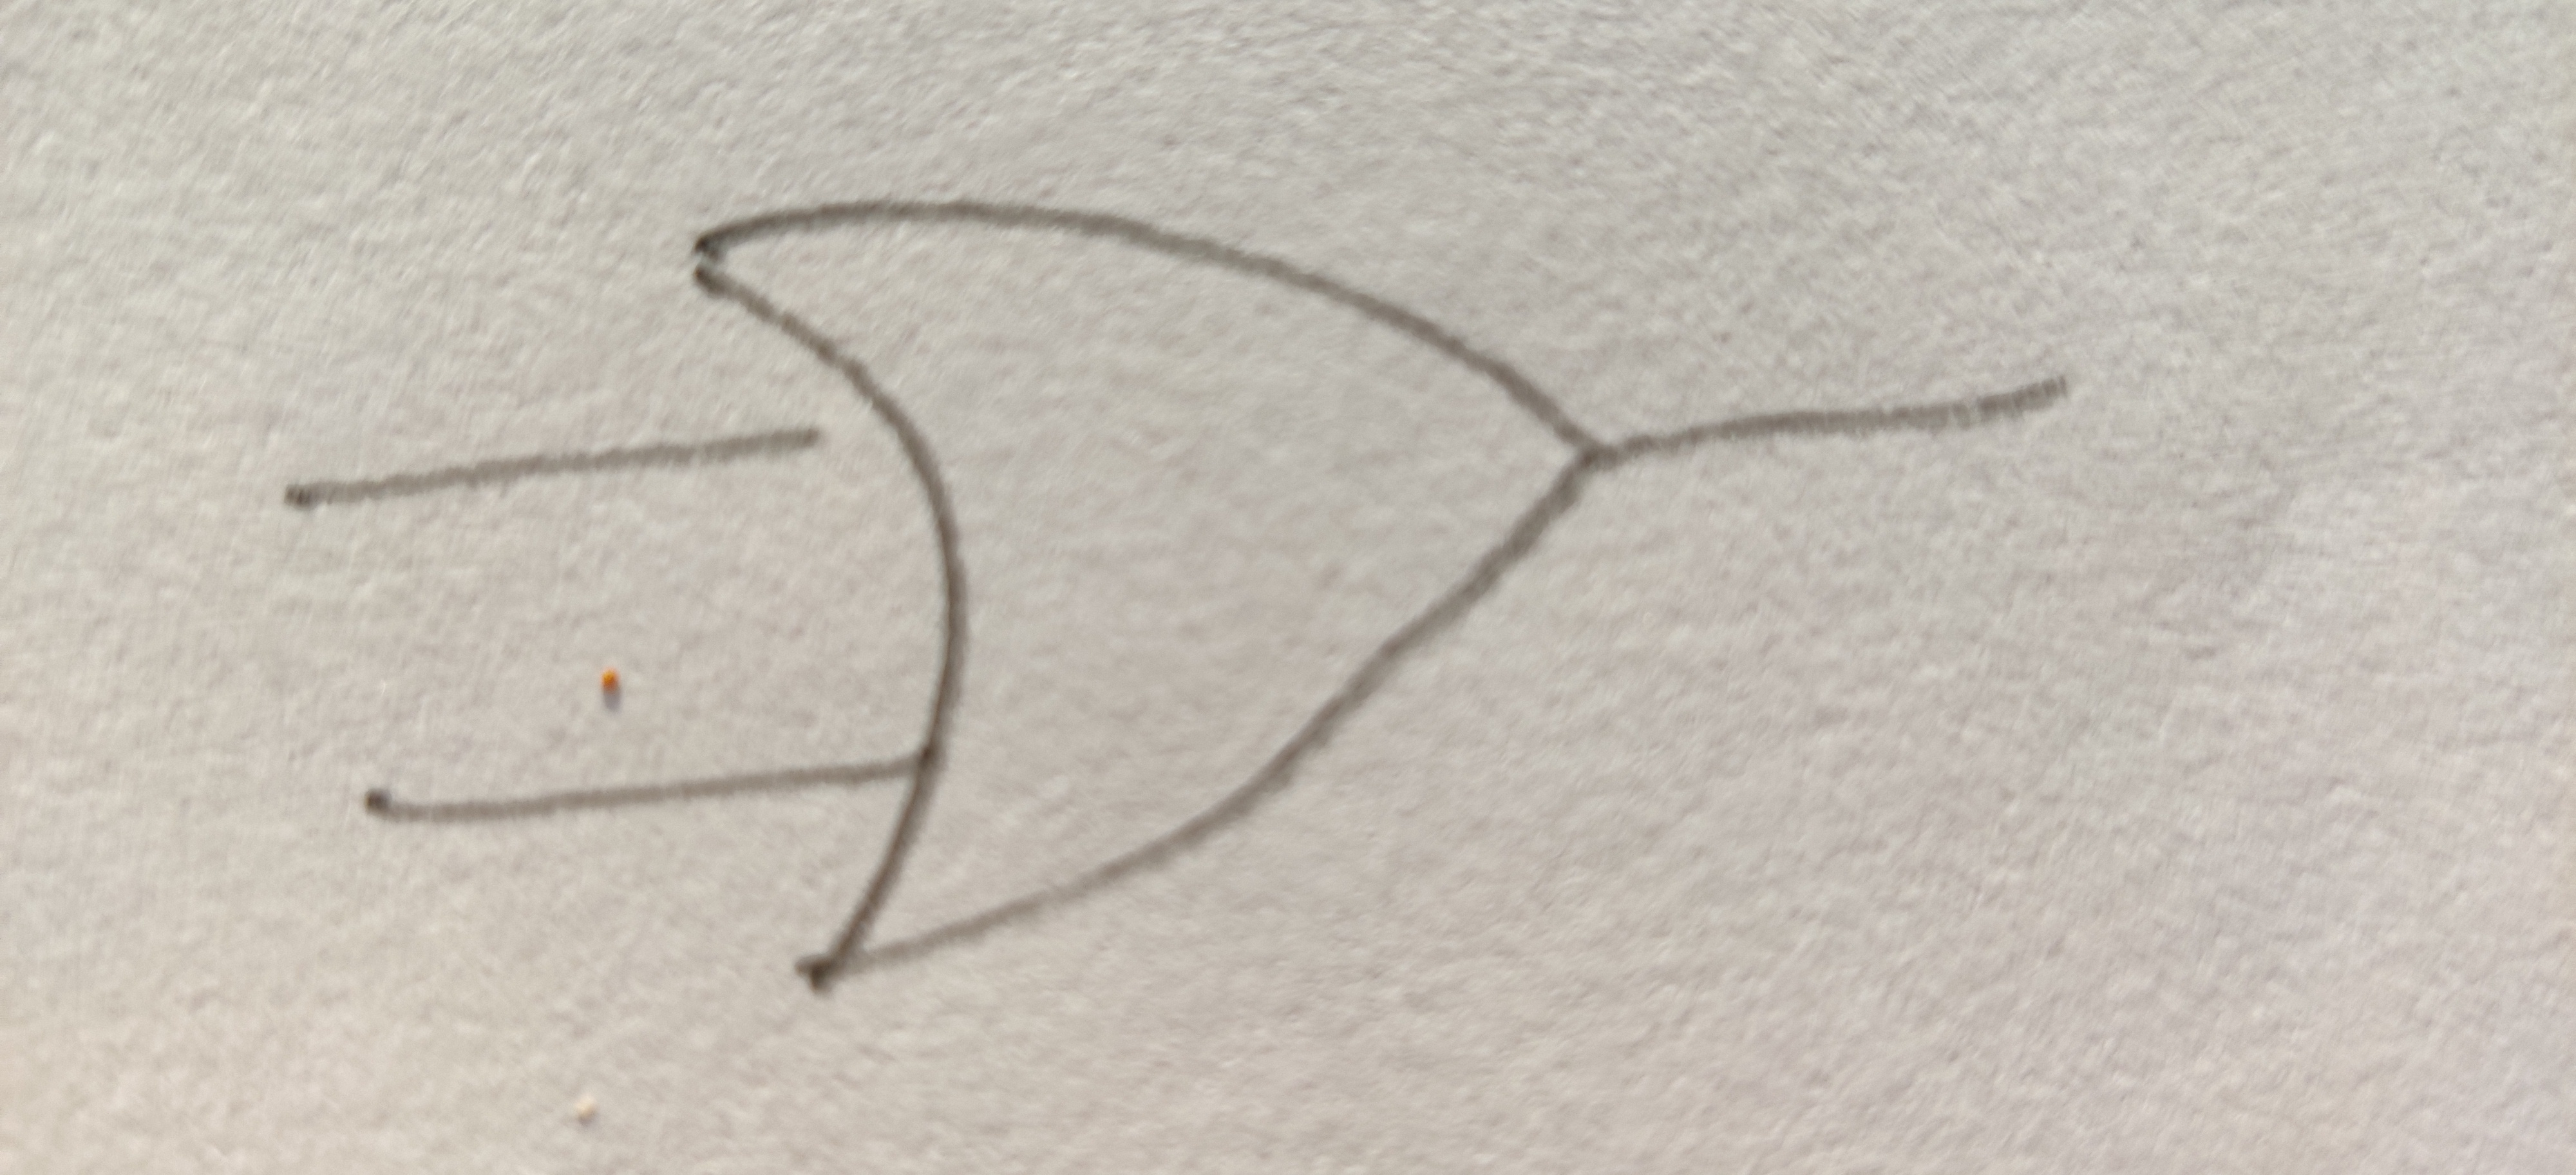or: (697, 202, 1605, 966)
